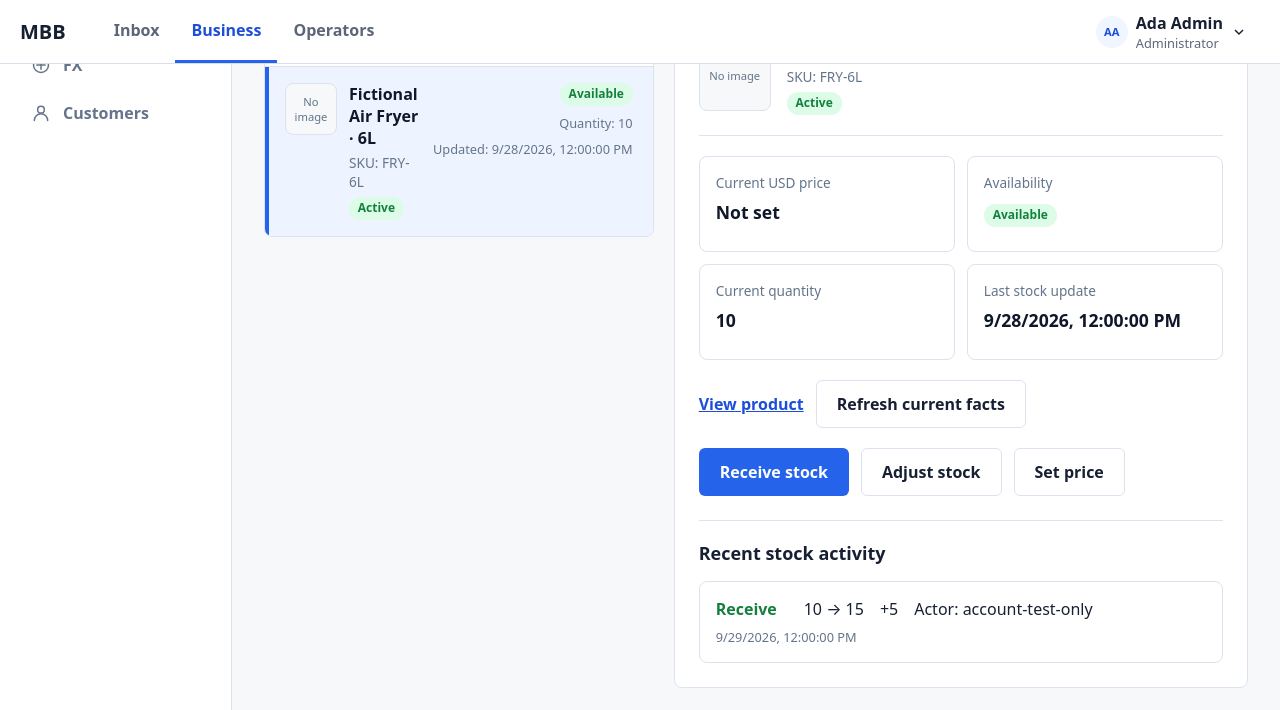
Business Stock › rereads authoritative stock after a stale-state conflict
(page scrolled)
Click the button "Receive stock" at (774, 472), box [699, 448, 849, 496]
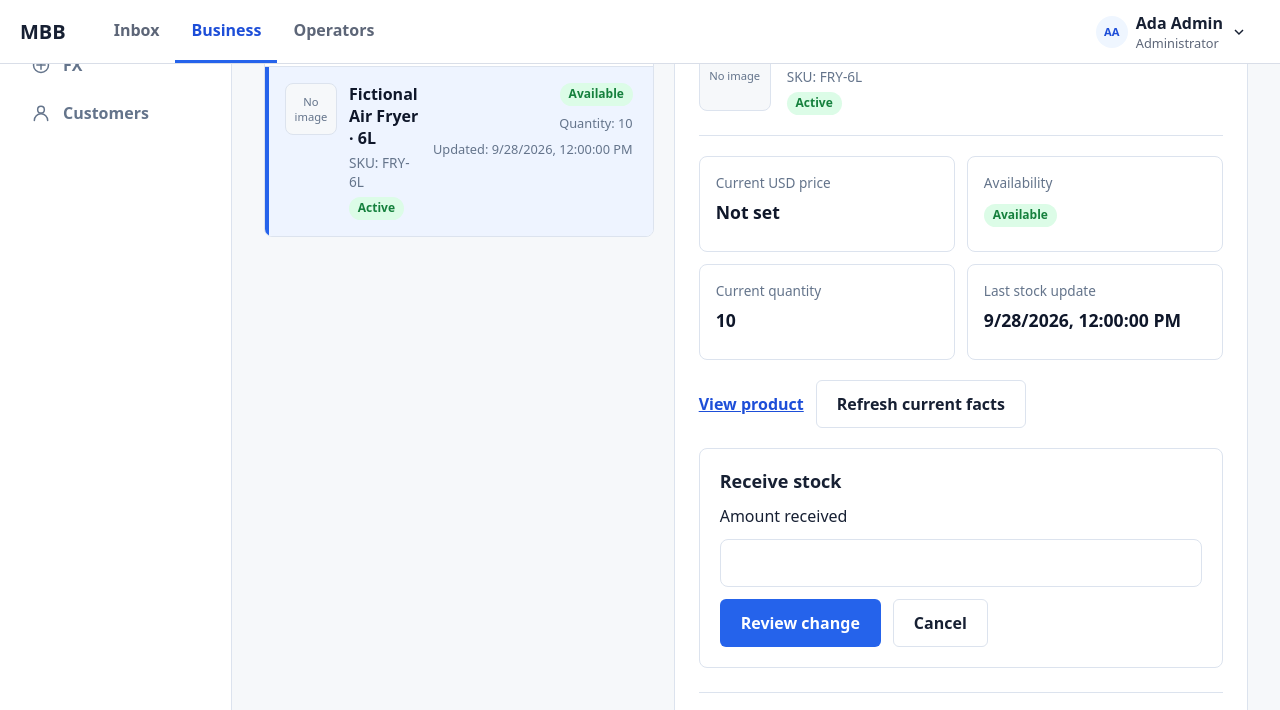
Type "5" into the field labelled "Amount received" at (961, 563), box [720, 539, 1202, 587]
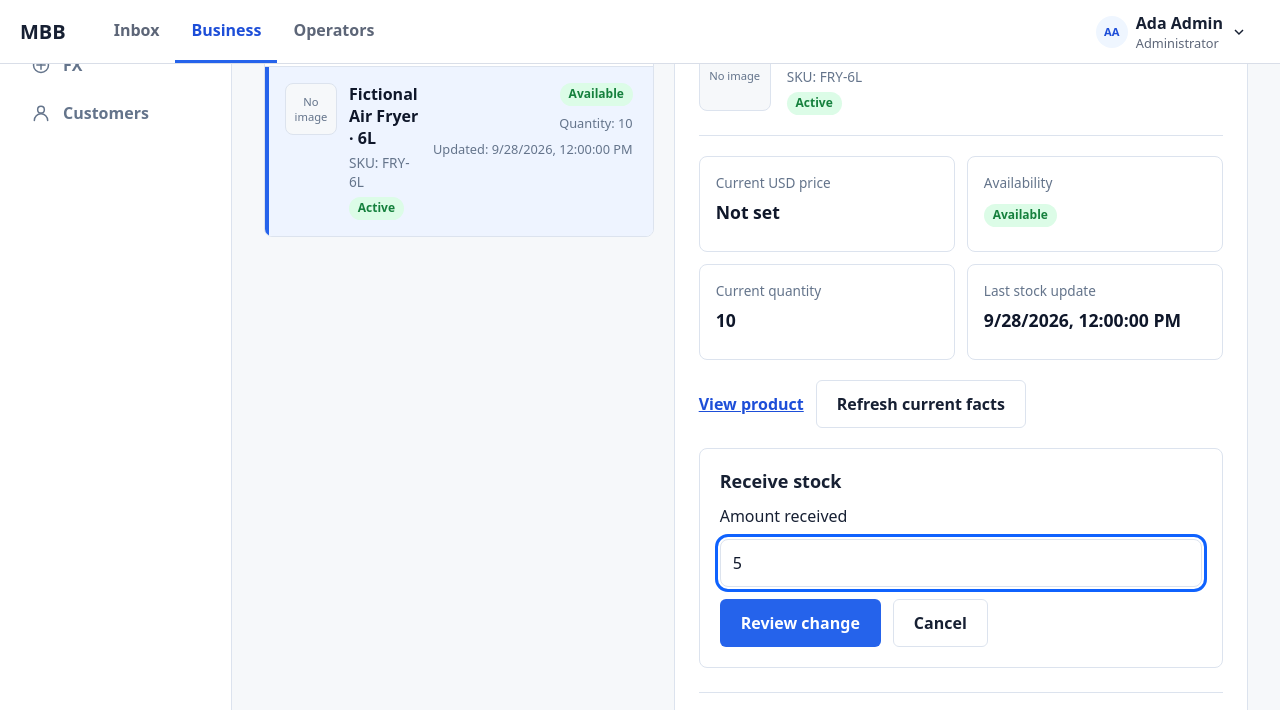
Click the button "Review change" at (800, 623), box [720, 599, 881, 647]
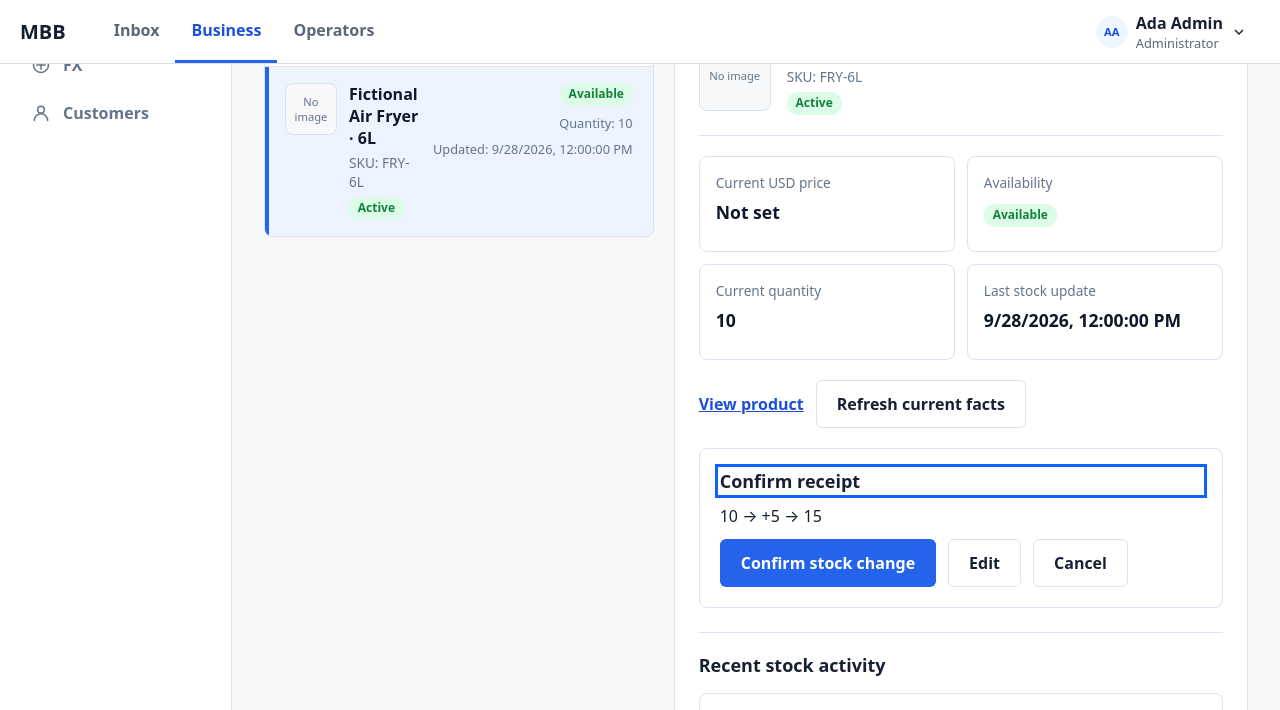
Click the button "Confirm stock change" at (828, 563), box [720, 539, 936, 587]
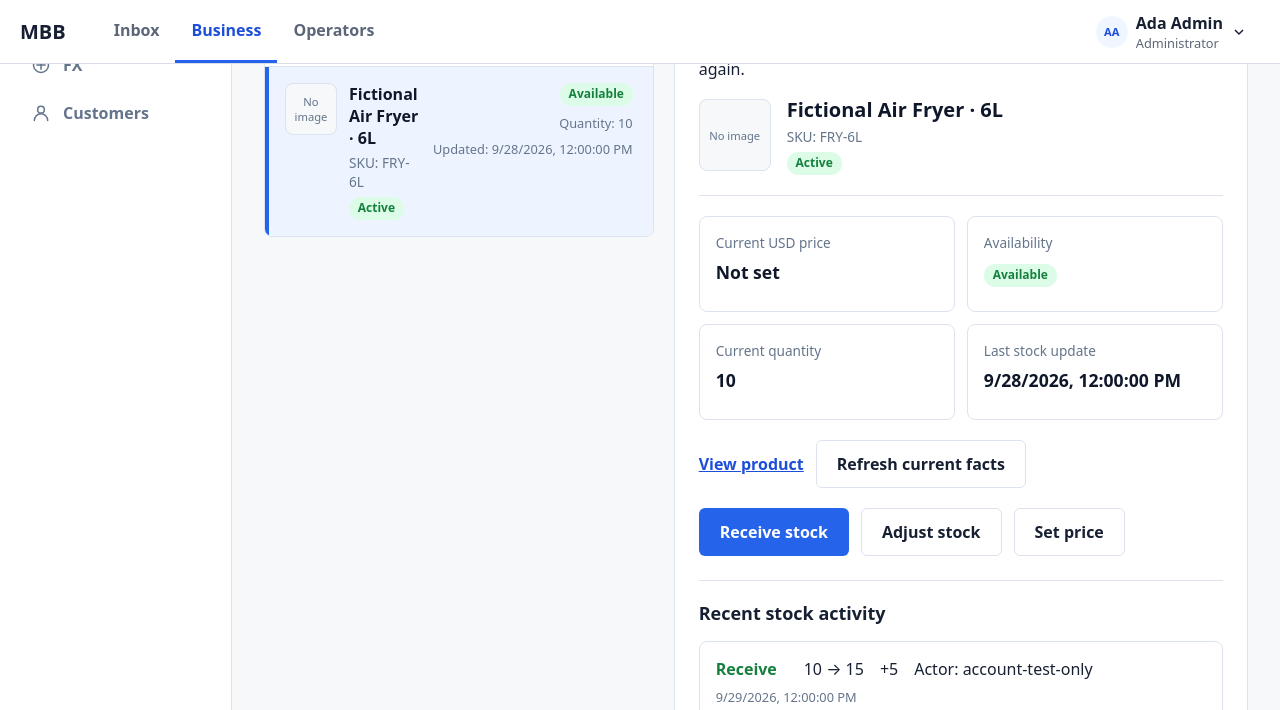
Now the heading "Confirm receipt" is gone
